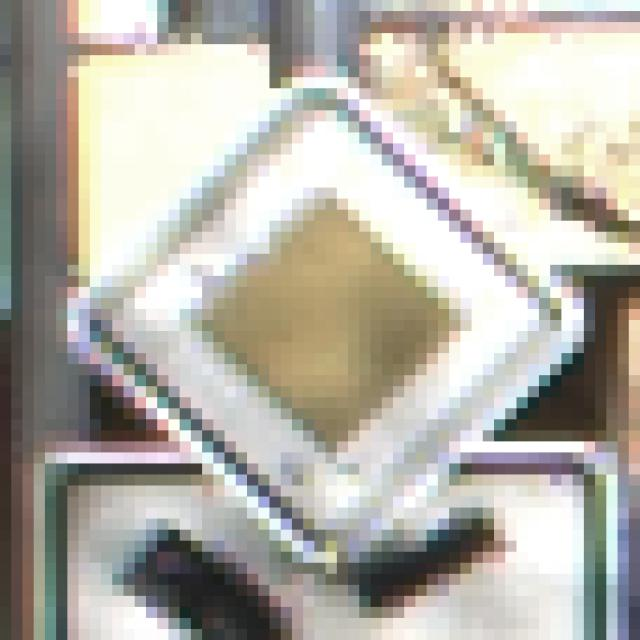Main Road: (68, 56, 585, 586)
